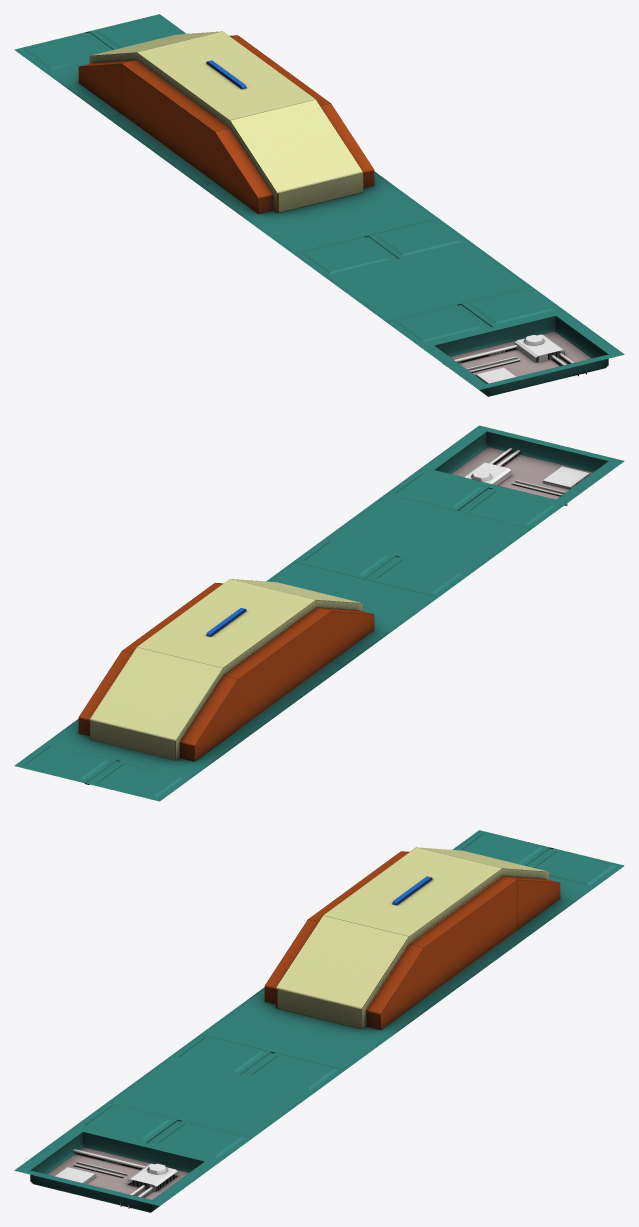
The model's file is sc_lvl1_floortile_15.FBX.
3 renders of one model, top to bottom at view 1: azimuth 30°, elevation 25°; view 2: azimuth 150°, elevation 25°; view 3: azimuth 330°, elevation 25°, orthographic.
Parts seen in each view (by area): view 1: sc_lvl1_floortile_15; view 2: sc_lvl1_floortile_15; view 3: sc_lvl1_floortile_15.
Boxes of the visible parts, box(x1,y1,x2,y2) form: sc_lvl1_floortile_15: box(14, 14, 624, 396); sc_lvl1_floortile_15: box(14, 425, 624, 801); sc_lvl1_floortile_15: box(14, 830, 624, 1212).
Size of the model in its own units: 18.1 by 8.89 by 100.
